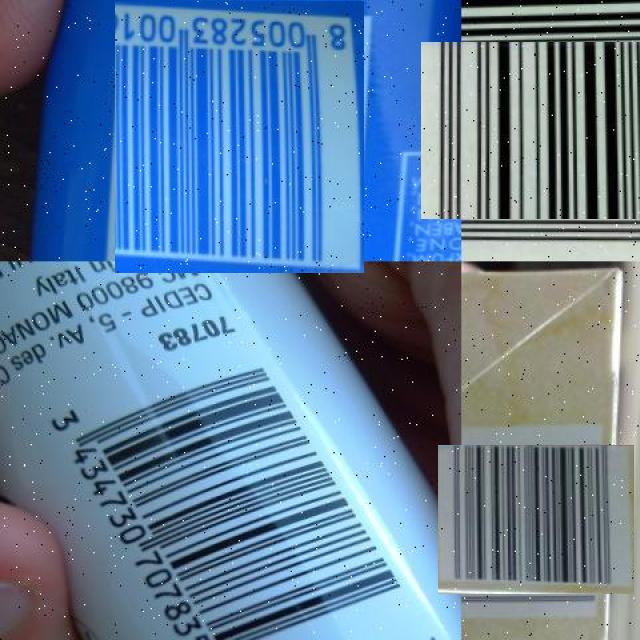Barcode: (38, 354, 412, 640), (109, 6, 370, 267), (442, 20, 640, 240), (450, 433, 622, 606)
